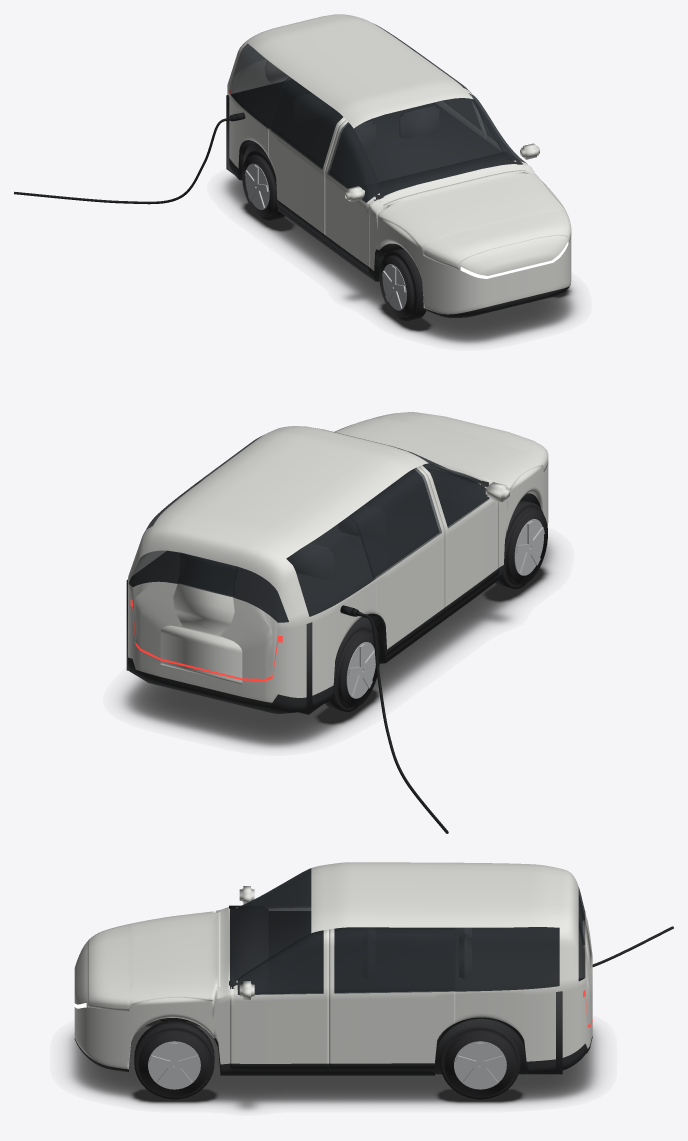
File: car_suv.glb
The picture shows the model from 3 angles, top to bottom: view 1: azimuth 30°, elevation 25°; view 2: azimuth 150°, elevation 25°; view 3: azimuth 270°, elevation 25°; orthographic projection. The views are drawn at different scales.
Parts seen in each view (by area): view 1: body, hood, interior, ground_shadow, door_rr, door_fr, wheels, door_rl, charge_cable, door_fl; view 2: body, ground_shadow, door_rr, interior, hood, tailgate, door_fr, wheels, charge_cable; view 3: body, door_rl, ground_shadow, interior, door_fl, hood, wheels, door_fr, tailgate.
Boxes of the visible parts, x1,y1,x2,y2 form: body: (227, 14, 571, 317); hood: (377, 170, 571, 269); interior: (226, 81, 522, 201); ground_shadow: (221, 175, 577, 344); door_rr: (268, 76, 345, 239); door_fr: (324, 120, 380, 272); wheels: (242, 150, 426, 321); door_rl: (410, 48, 484, 138); charge_cable: (14, 112, 245, 204); door_fl: (466, 90, 527, 164); body: (128, 426, 548, 713); ground_shadow: (120, 539, 556, 748); door_rr: (349, 466, 445, 656); interior: (126, 475, 488, 714); hood: (334, 412, 548, 489); tailgate: (160, 552, 242, 684); door_fr: (419, 463, 498, 613); wheels: (325, 500, 547, 711); charge_cable: (340, 605, 448, 833); body: (74, 862, 592, 1075); door_rl: (329, 927, 455, 1069); ground_shadow: (66, 1020, 600, 1110); interior: (229, 905, 562, 1074); door_fl: (230, 929, 328, 1069); hood: (87, 911, 220, 1011); wheels: (134, 1018, 520, 1098); door_fr: (236, 868, 310, 910); tailgate: (578, 894, 592, 974).
Size of the model in its own units: 4.39 by 1.77 by 6.17.
11 materials, 1 textured.
